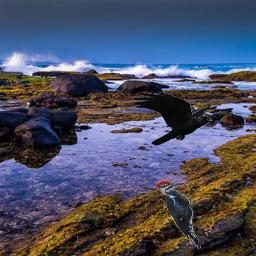Crow: (132, 91, 214, 146)
Woodpecker: (155, 180, 201, 250)
